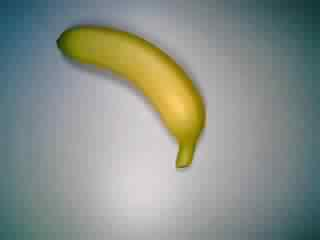banana: (53, 19, 210, 175)
